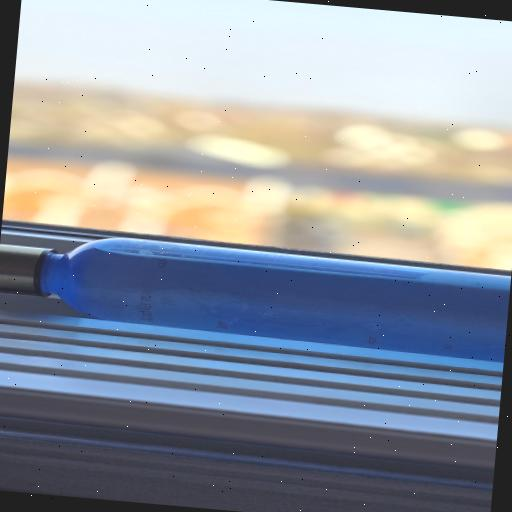bottle: (0, 187, 512, 378)
